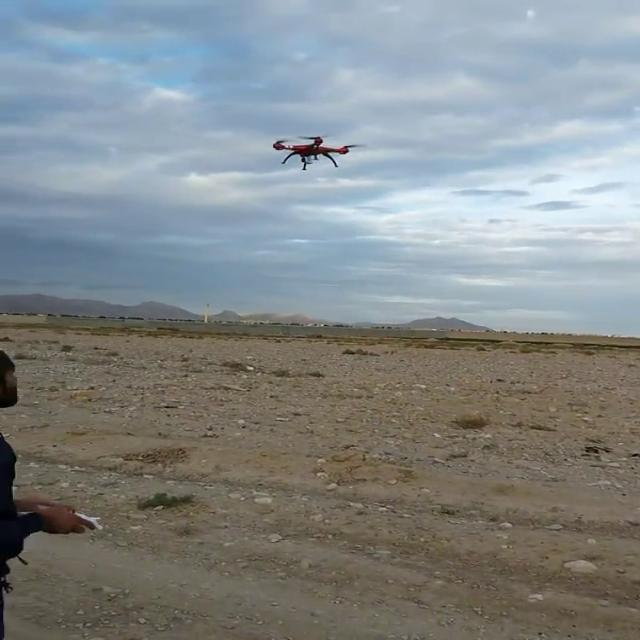drone: (265, 130, 372, 172)
